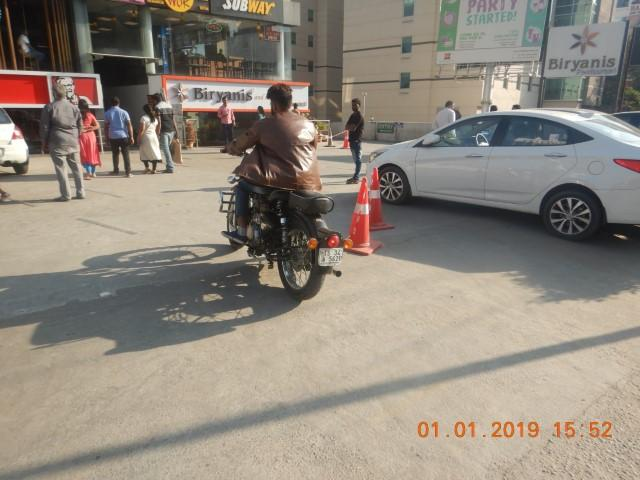plate: (318, 247, 344, 264)
